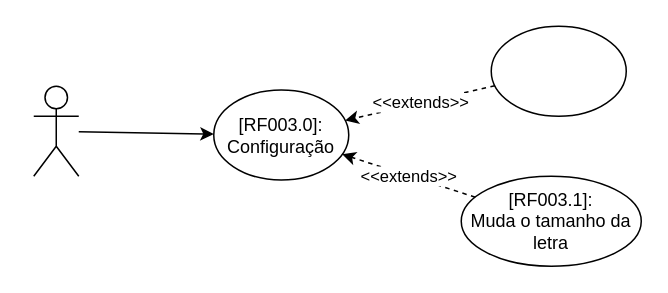
Some shapes in this 668 by 293 pixel diagram are drawn without their labels. The shapes that lost their labels are listed below. From the top down, each one's centre as x and y in pixels, then its label:
At (558,70): "[RF004.0]: Fazer alteração no usuário".
At (55,130): "Usuário".
